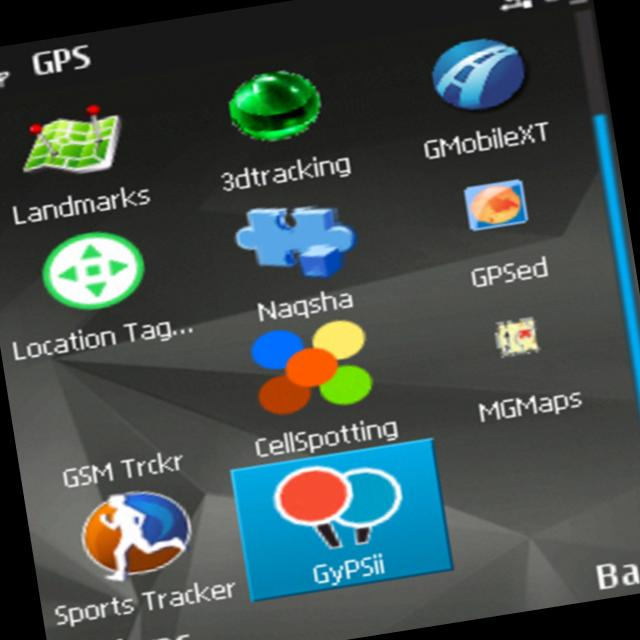Ball: (426, 31, 532, 118)
